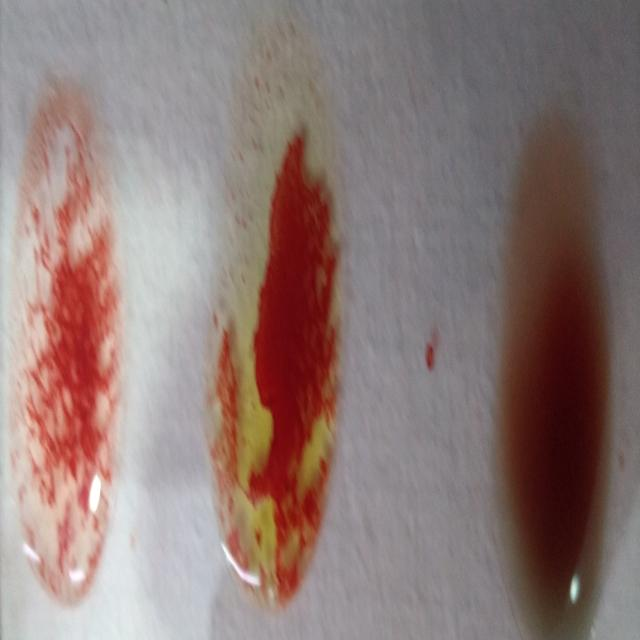B: (216, 21, 341, 605)
D: (6, 76, 120, 601)
